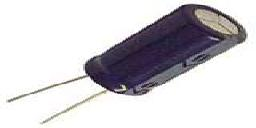Electrolytic Capacitor: (7, 1, 248, 128)
